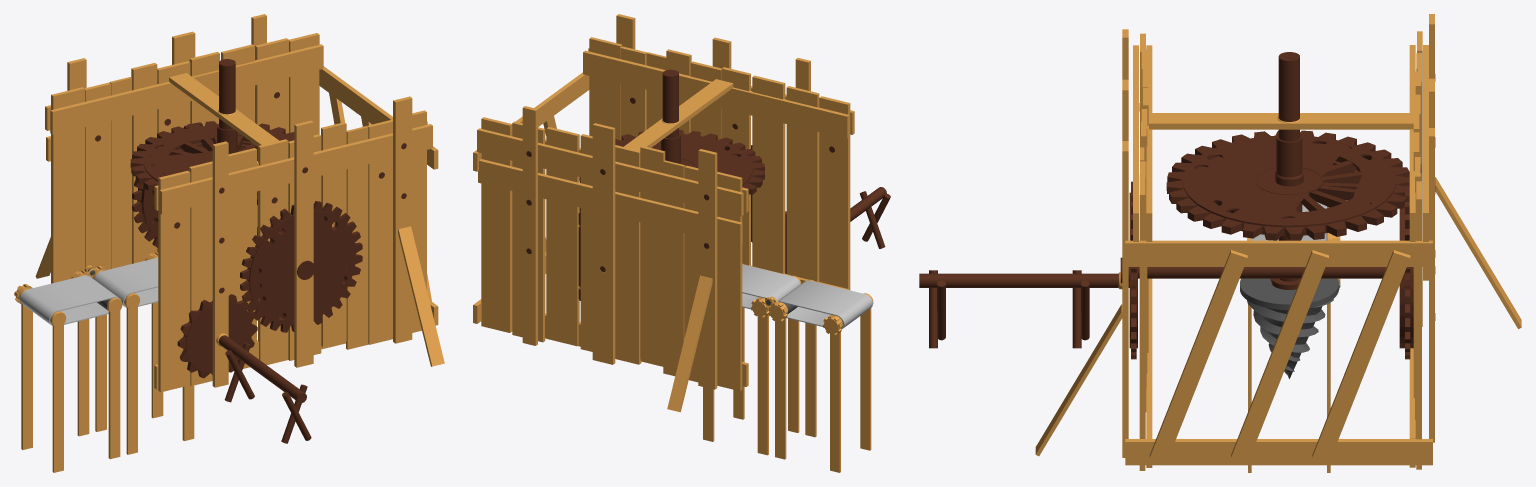
Rendered from mining_machine_primitive.fbx.
The picture shows the model from 3 angles, left to right: view 1: azimuth 30°, elevation 25°; view 2: azimuth 150°, elevation 25°; view 3: azimuth 270°, elevation 25°; orthographic projection. The views are drawn at different scales.
Visible parts, largest first — view 1: Cylinder.007, 立方体.001, Cube.025, Cube, Cube.009, Cube.023, Cube.007, 立方体.007, Cube.013, Cube.014, Cube.022, Cube.012 (+28 smaller); view 2: 立方体.001, Cube.010, Cube.028, Cube.001, Cube.017, Cube.002, Cube.024, Cube.035, Cube, Cube.015, Cube.023, Cube.019 (+25 smaller); view 3: Cylinder.002, Cube.031, Cube.032, Cube.030, Cube.036, Cube.038, Cube.037, Cylinder.003, Cylinder.001, Cylinder, Cube.014, Cylinder.024 (+17 smaller).
Part boxes in pixels (x1=…): Cylinder.007: x1=240, y1=201, x2=362, y2=332; 立方体.001: x1=21, y1=303, x2=120, y2=472; Cube.025: x1=50, y1=44, x2=323, y2=134; Cube: x1=158, y1=170, x2=190, y2=392; Cube.009: x1=159, y1=124, x2=432, y2=214; Cube.023: x1=51, y1=87, x2=84, y2=283; Cube.007: x1=367, y1=119, x2=392, y2=344; 立方体.007: x1=95, y1=302, x2=194, y2=454; Cube.013: x1=294, y1=120, x2=313, y2=367; Cube.014: x1=393, y1=96, x2=412, y2=343; Cube.022: x1=85, y1=82, x2=110, y2=269; Cube.012: x1=212, y1=141, x2=228, y2=387; 立方体.001: x1=775, y1=308, x2=871, y2=472; Cube.010: x1=583, y1=50, x2=849, y2=138; Cube.028: x1=592, y1=123, x2=615, y2=364; Cube.001: x1=786, y1=86, x2=819, y2=281; Cube.017: x1=546, y1=127, x2=579, y2=346; Cube.002: x1=752, y1=75, x2=785, y2=273; Cube.024: x1=477, y1=128, x2=743, y2=216; Cube.035: x1=478, y1=159, x2=742, y2=246; Cube: x1=819, y1=96, x2=850, y2=290; Cube.015: x1=481, y1=117, x2=512, y2=332; Cube.023: x1=717, y1=171, x2=742, y2=391; Cube.019: x1=615, y1=145, x2=641, y2=364; Cylinder.002: x1=1166, y1=130, x2=1409, y2=240; Cube.031: x1=1125, y1=240, x2=1432, y2=266; Cube.032: x1=1125, y1=439, x2=1432, y2=465; Cube.030: x1=1149, y1=113, x2=1413, y2=129; Cube.036: x1=1312, y1=250, x2=1410, y2=462; Cube.038: x1=1149, y1=250, x2=1247, y2=462; Cube.037: x1=1231, y1=250, x2=1328, y2=462; Cylinder.003: x1=1255, y1=52, x2=1323, y2=289; Cylinder.001: x1=919, y1=273, x2=1129, y2=287; Cylinder: x1=1120, y1=257, x2=1386, y2=283; Cube.014: x1=1122, y1=141, x2=1128, y2=457; Cylinder.024: x1=1247, y1=299, x2=1333, y2=378.
Size of the model in its own units: 4.74 by 4.63 by 5.65.
